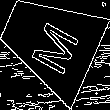M_NW: (20, 10, 79, 74)
